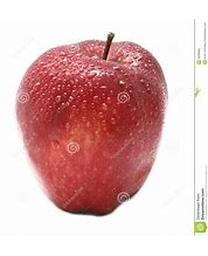apple: (13, 37, 167, 215)
